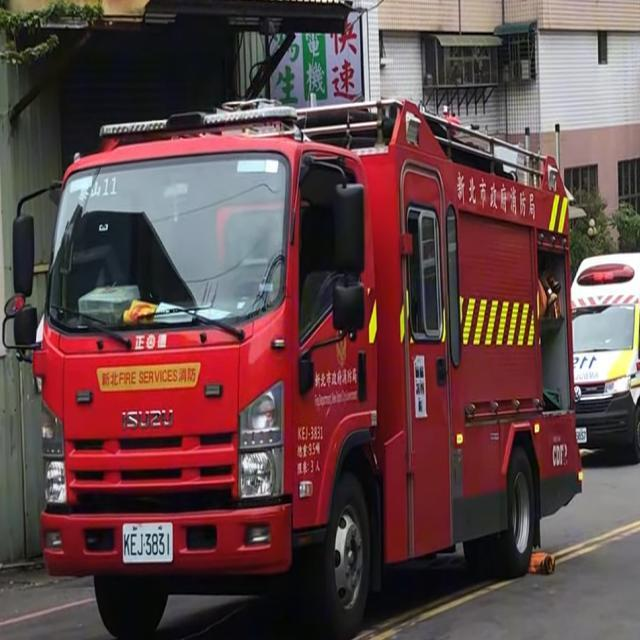ambulance: (3, 64, 584, 637)
